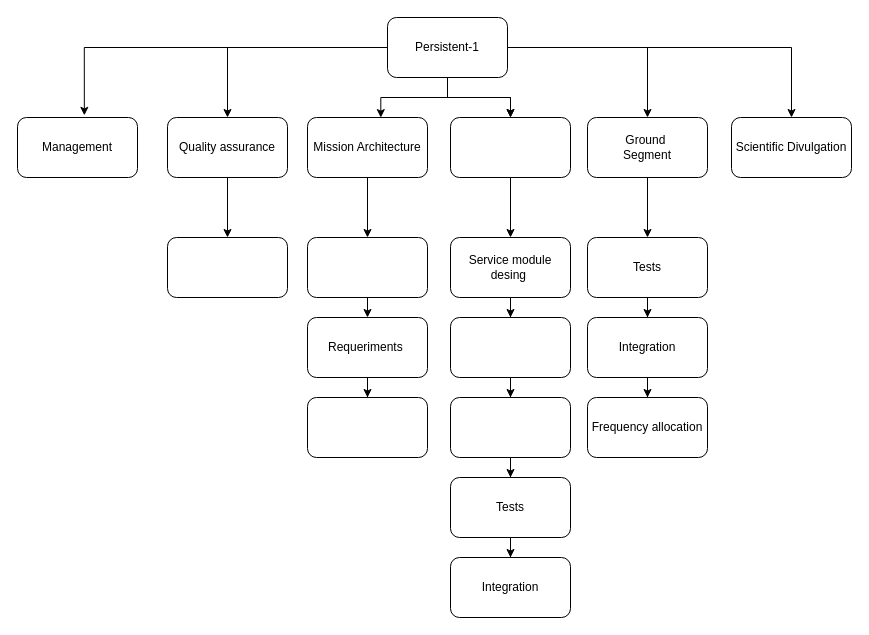
Image size: 869x635. Some labels were removed from this diagram. The centre of each missing label's shape, as x and y in pixels:
Firmware development: point 510,427
Payload desing: point 510,347
Purchases: point 227,267
Satelite's operation definition: point 367,267
Simulations: point 367,427
Space Segment: point 510,147
